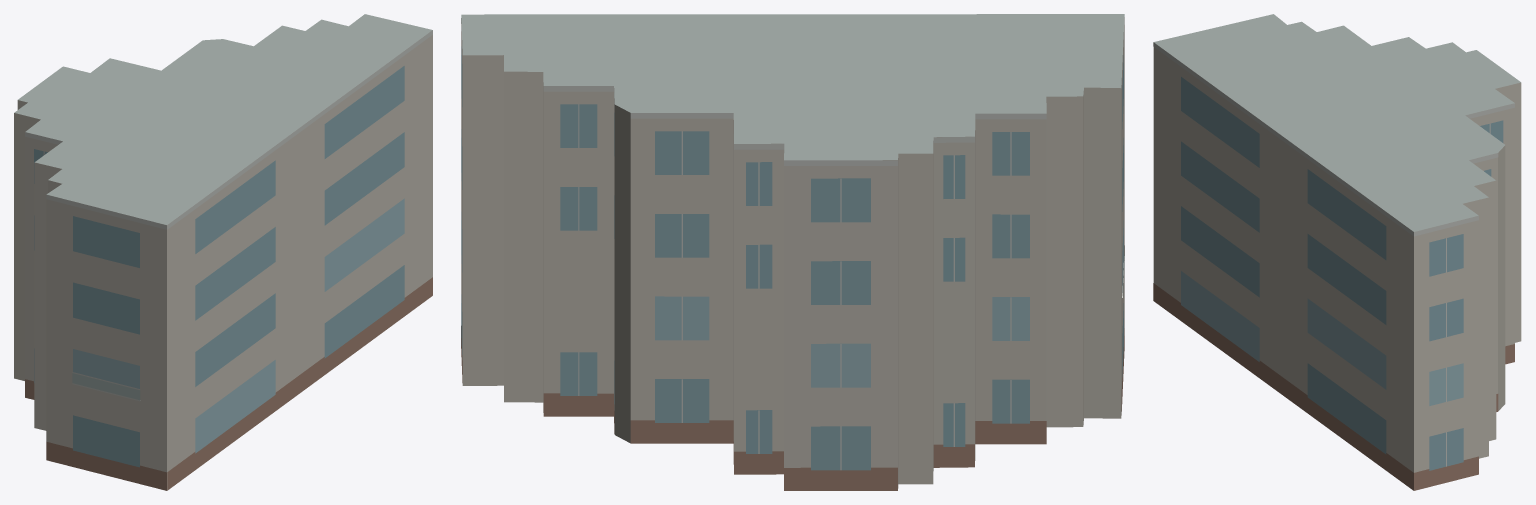
File: survey-upis-32972868.glb
3 views of the same model, side by side, from view 1: azimuth 30°, elevation 25°; view 2: azimuth 150°, elevation 25°; view 3: azimuth 270°, elevation 25° (orthographic). The views are drawn at different scales.
Visible parts, largest first — view 1: survey-upis-32972868.tmp; view 2: survey-upis-32972868.tmp; view 3: survey-upis-32972868.tmp.
Part boxes in pixels (box(x1,y1,x2,y2)): survey-upis-32972868.tmp: box(14, 14, 432, 490); survey-upis-32972868.tmp: box(461, 14, 1124, 490); survey-upis-32972868.tmp: box(1153, 14, 1521, 490).
Size of the model in its own units: 25.11 by 13.9 by 17.91.
